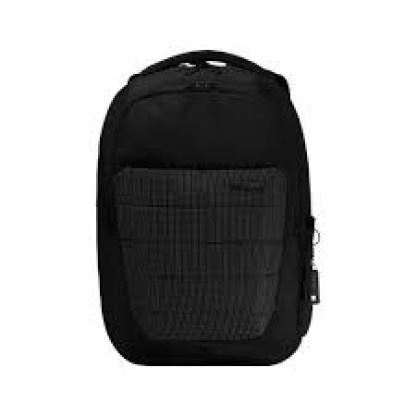morral: (85, 41, 342, 379)
